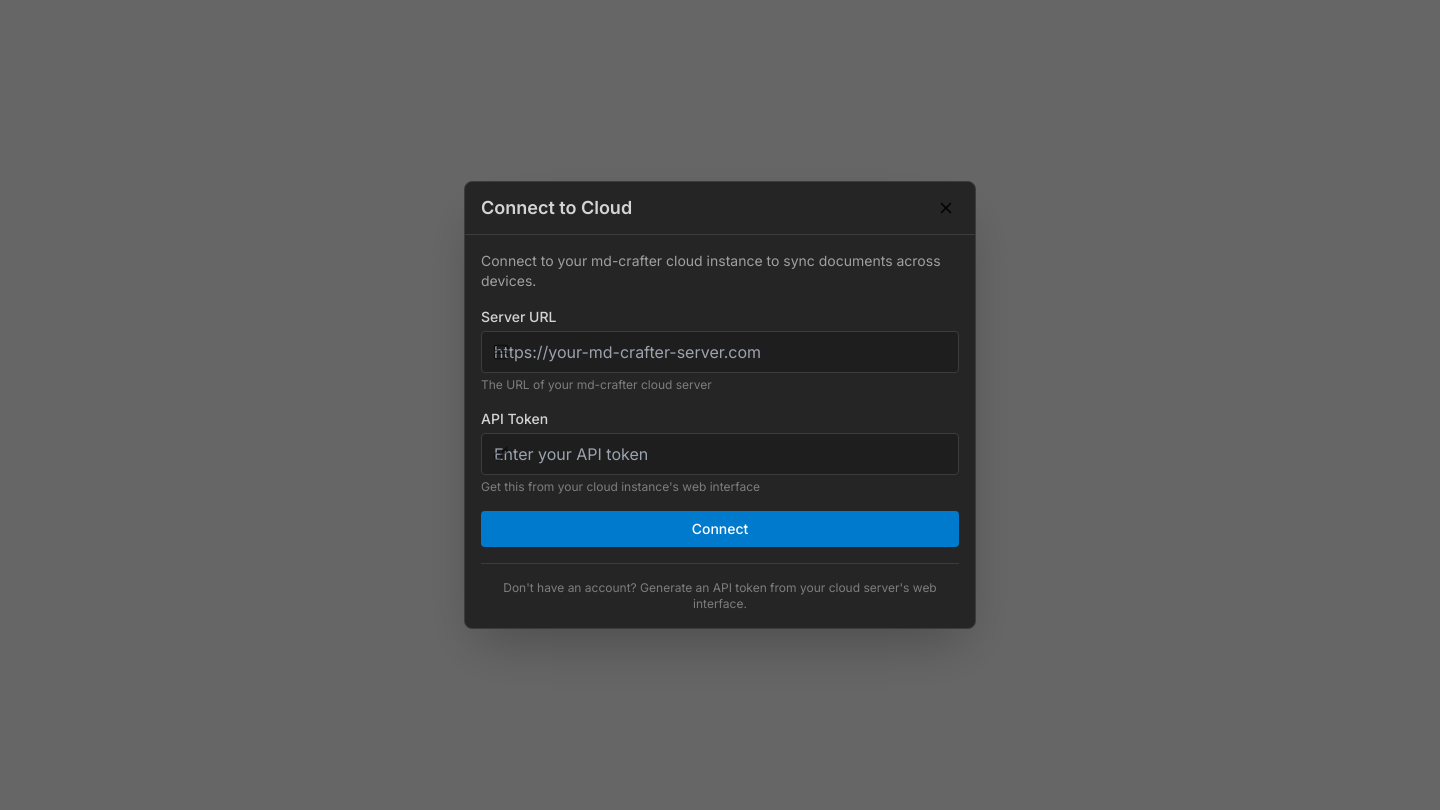
Test: AuthModal › Desktop Mode - Server URL and Token › should validate server URL format
This screenshot has width=1440, height=810.
Type "invalid-url" into the field with placeholder "https://your-md-crafter-server.com" at (720, 352), box [481,331,959,373]
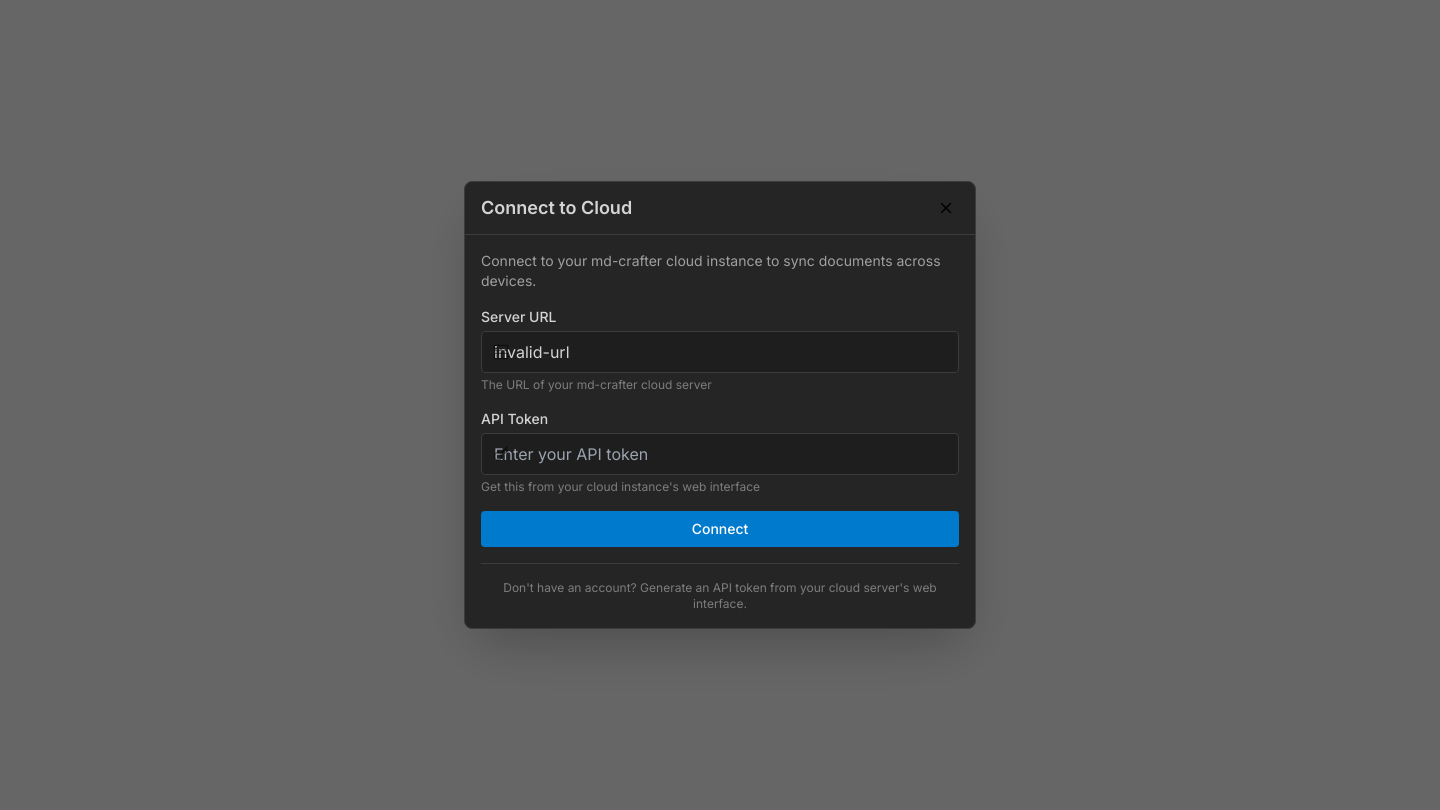
Type "token" into the password field with placeholder "Enter your API token" at (720, 454), box [481,433,959,475]
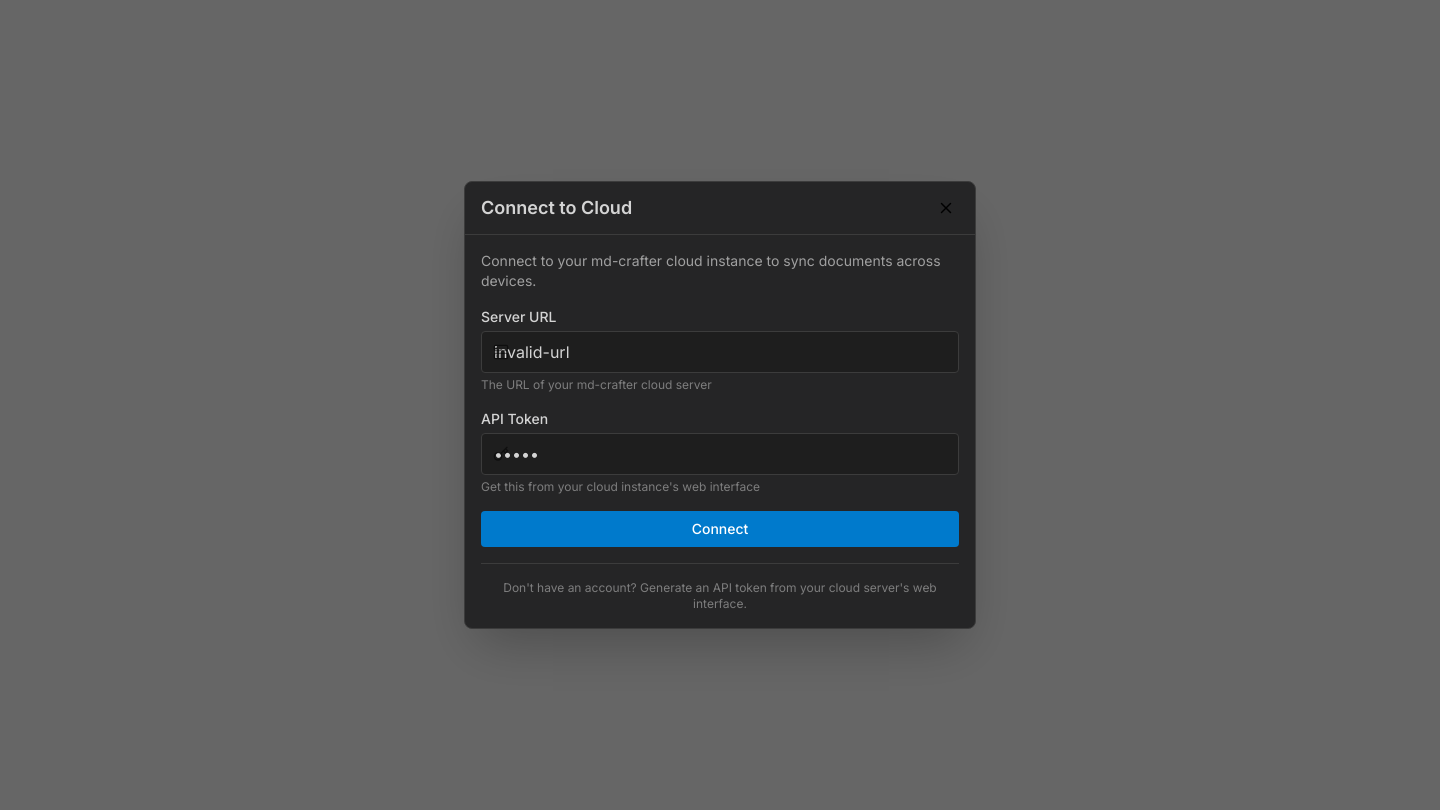
Click the button "Connect" at (720, 529), box [481,511,959,547]
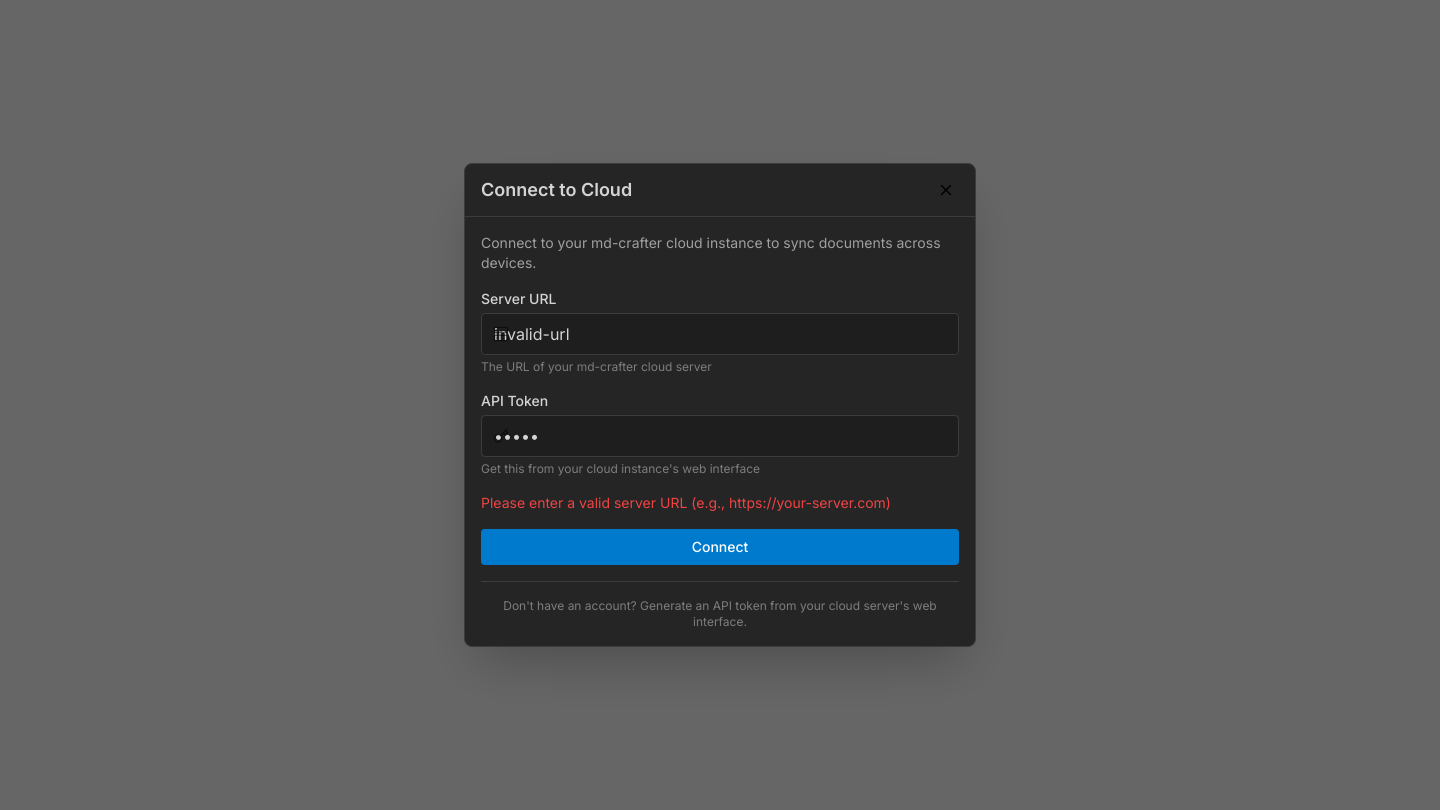
Expected: the text "valid server URL" is shown, [481,494,891,511]
